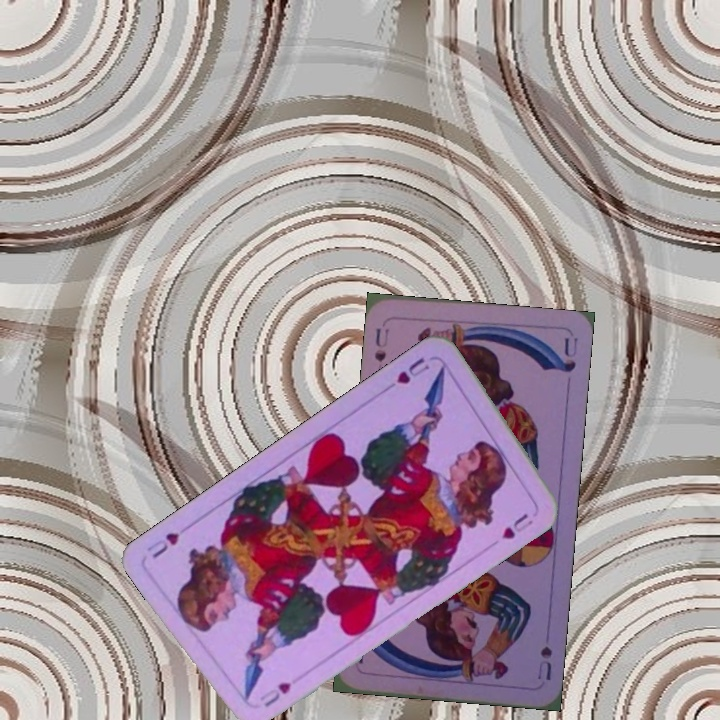HU: (382, 353, 432, 393), (255, 678, 295, 710)
SU: (533, 642, 555, 683), (370, 323, 391, 365)
